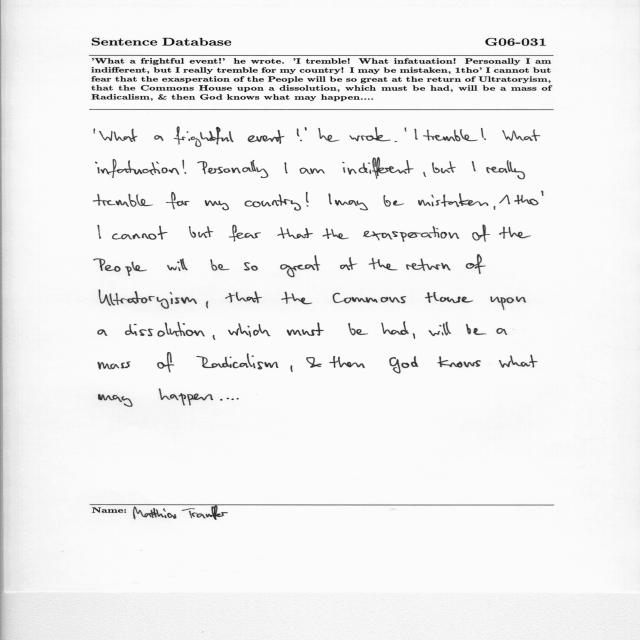word: (99, 290, 197, 309), (95, 159, 179, 178), (342, 157, 414, 179), (363, 226, 459, 242), (197, 353, 279, 370), (197, 160, 269, 178), (174, 127, 234, 147), (125, 322, 205, 337), (418, 193, 488, 207), (245, 194, 302, 211), (94, 258, 147, 276), (280, 255, 321, 277), (159, 389, 213, 405), (112, 226, 168, 240), (93, 194, 153, 207), (486, 160, 525, 179), (333, 293, 406, 303), (423, 129, 478, 141), (499, 191, 543, 206), (349, 128, 391, 142), (228, 323, 270, 337), (406, 258, 451, 271), (389, 356, 419, 374), (425, 292, 473, 303), (437, 356, 481, 368), (248, 130, 285, 144), (287, 322, 324, 336), (229, 225, 261, 241), (499, 355, 538, 368), (490, 296, 526, 310), (99, 129, 137, 142), (502, 130, 540, 142), (225, 291, 262, 303), (99, 394, 133, 407), (277, 227, 313, 239), (329, 356, 365, 368), (466, 254, 486, 274), (381, 321, 409, 335), (166, 192, 189, 209), (499, 227, 531, 239), (282, 292, 313, 304), (369, 258, 398, 270), (157, 353, 174, 373), (335, 200, 368, 210), (318, 128, 340, 142), (429, 322, 451, 336), (472, 225, 490, 242), (189, 226, 214, 238), (322, 229, 349, 240), (432, 161, 456, 173), (167, 258, 188, 271), (98, 362, 131, 370), (384, 195, 405, 207), (205, 200, 229, 210), (348, 323, 368, 335), (340, 257, 358, 270), (210, 259, 229, 271), (466, 324, 486, 335), (306, 357, 322, 368), (299, 168, 325, 174), (244, 262, 258, 271), (497, 328, 508, 335), (297, 129, 302, 142), (98, 329, 107, 336), (154, 135, 164, 141), (481, 128, 486, 140), (183, 160, 187, 174), (306, 192, 309, 207), (414, 129, 418, 140), (284, 163, 288, 174), (328, 194, 332, 205), (98, 225, 101, 239), (220, 398, 234, 401), (472, 161, 476, 171), (290, 365, 293, 372), (423, 172, 426, 177), (206, 301, 208, 308), (413, 333, 415, 339), (405, 127, 407, 132), (213, 335, 215, 340), (305, 127, 307, 131), (494, 206, 496, 210), (94, 129, 95, 134), (395, 141, 398, 142), (236, 398, 239, 399)
